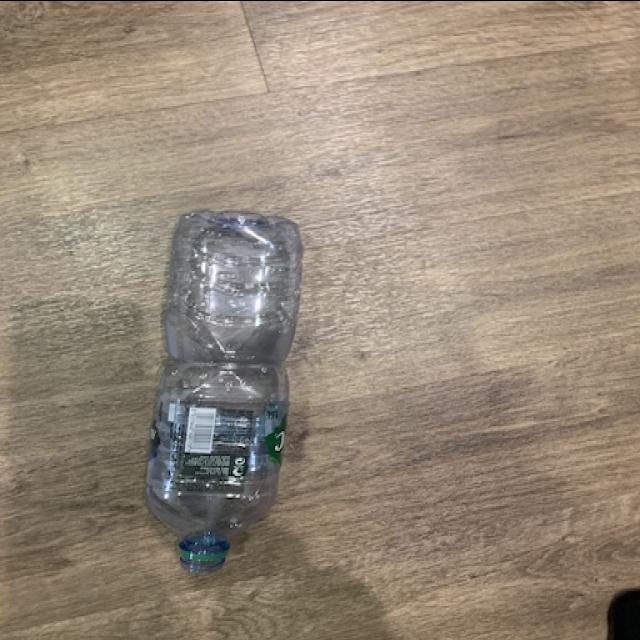litter: (142, 206, 306, 578)
